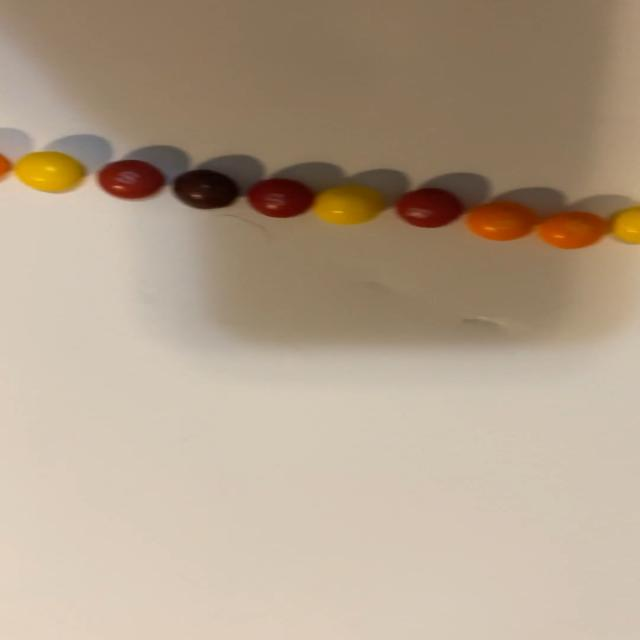smartie: (466, 201, 538, 240), (312, 185, 384, 224), (13, 151, 82, 191), (247, 178, 313, 218), (396, 188, 463, 227), (539, 211, 609, 248), (97, 159, 163, 198), (173, 169, 237, 208), (612, 205, 640, 243)
